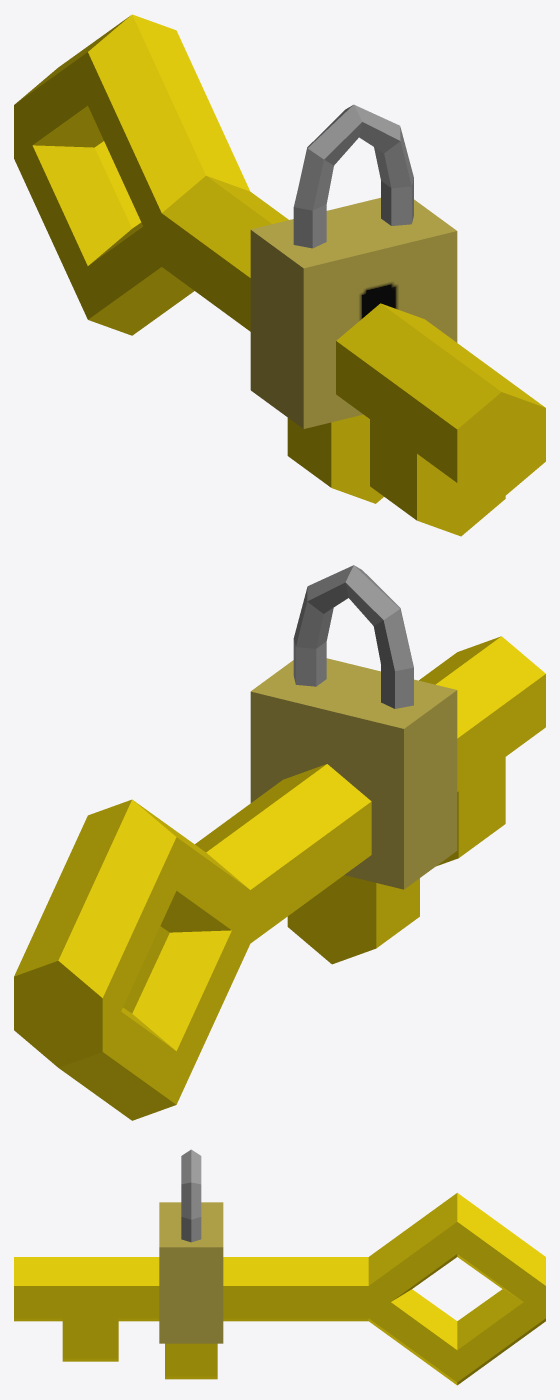
File: Key.fbx
3 renders of one model, top to bottom at view 1: azimuth 30°, elevation 25°; view 2: azimuth 150°, elevation 25°; view 3: azimuth 270°, elevation 25°, orthographic. The views are drawn at different scales.
Parts seen in each view (by area): view 1: Key, Padlock; view 2: Key, Padlock; view 3: Key, Padlock.
Boxes of the visible parts, bbox=[...] form: Key: bbox=[14, 14, 545, 536]; Padlock: bbox=[250, 104, 457, 428]; Key: bbox=[14, 636, 545, 1120]; Padlock: bbox=[250, 565, 457, 889]; Key: bbox=[14, 1192, 545, 1385]; Padlock: bbox=[159, 1149, 223, 1343].
Size of the model in its own units: 30 by 73.46 by 150.
